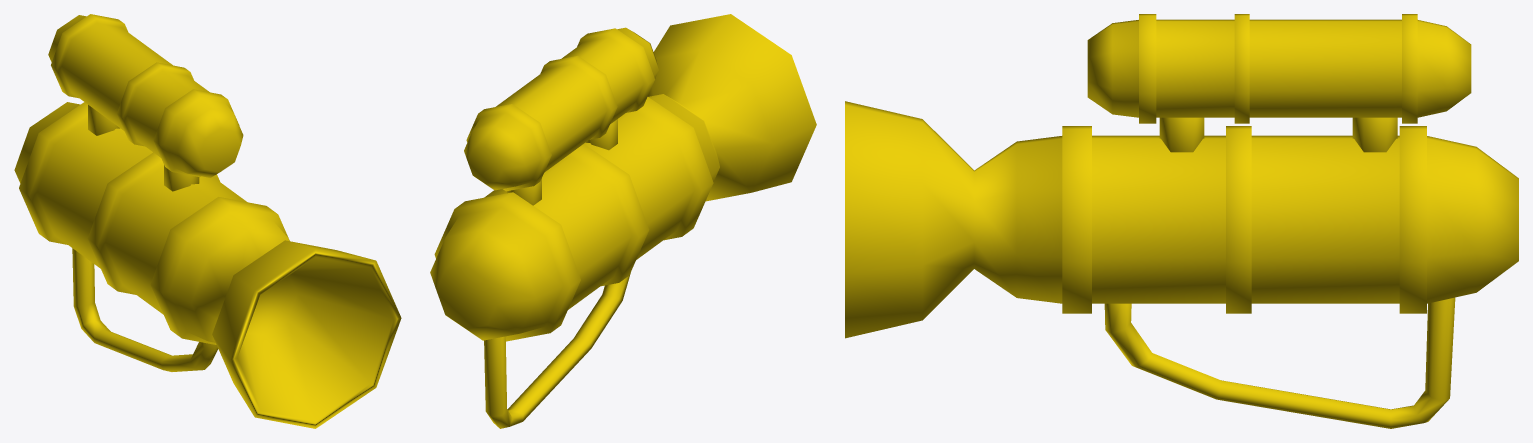
The model's file is greek fire.fbx.
3 renders of one model, left to right at view 1: azimuth 30°, elevation 25°; view 2: azimuth 150°, elevation 25°; view 3: azimuth 270°, elevation 25°, orthographic. The views are drawn at different scales.
Parts seen in each view (by area): view 1: Greek_fire; view 2: Greek_fire; view 3: Greek_fire.
Part boxes in pixels (bbox=[...]): Greek_fire: bbox=[14, 14, 401, 428]; Greek_fire: bbox=[430, 14, 816, 428]; Greek_fire: bbox=[845, 14, 1518, 428].
Size of the model in its own units: 1.49 by 2.68 by 3.97.
